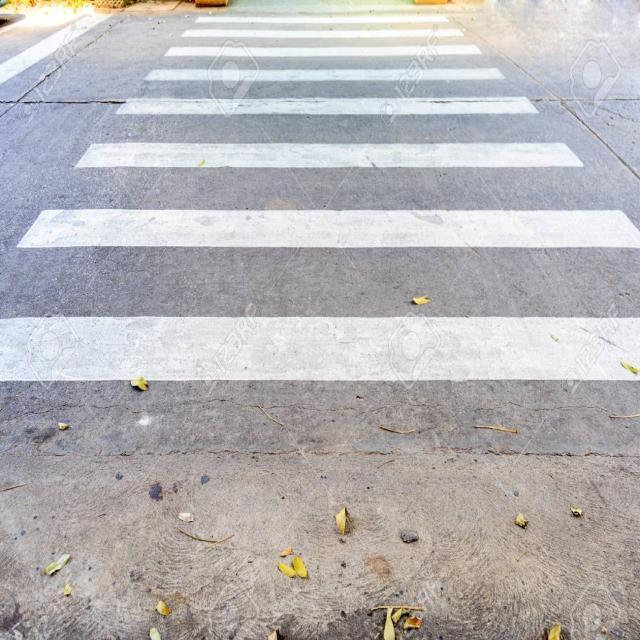crosswalk: (0, 1, 640, 447)
